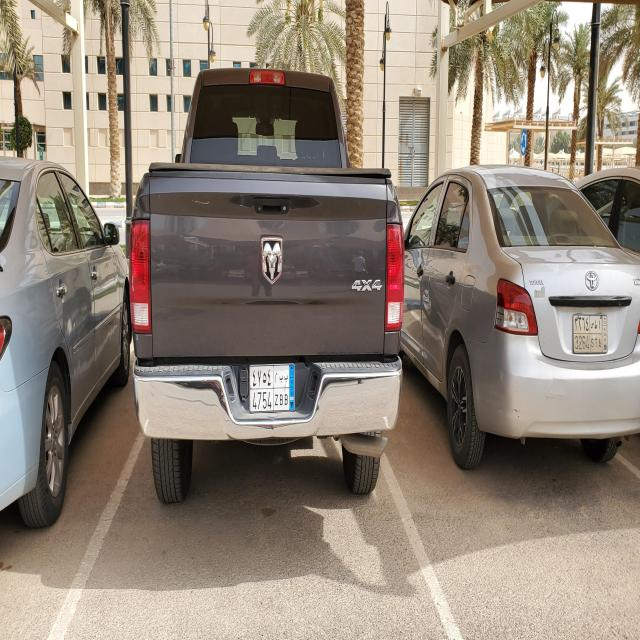license_plate: (249, 365, 294, 413), (573, 312, 607, 355)
